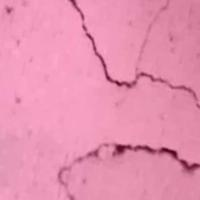crack: (65, 0, 199, 181)
